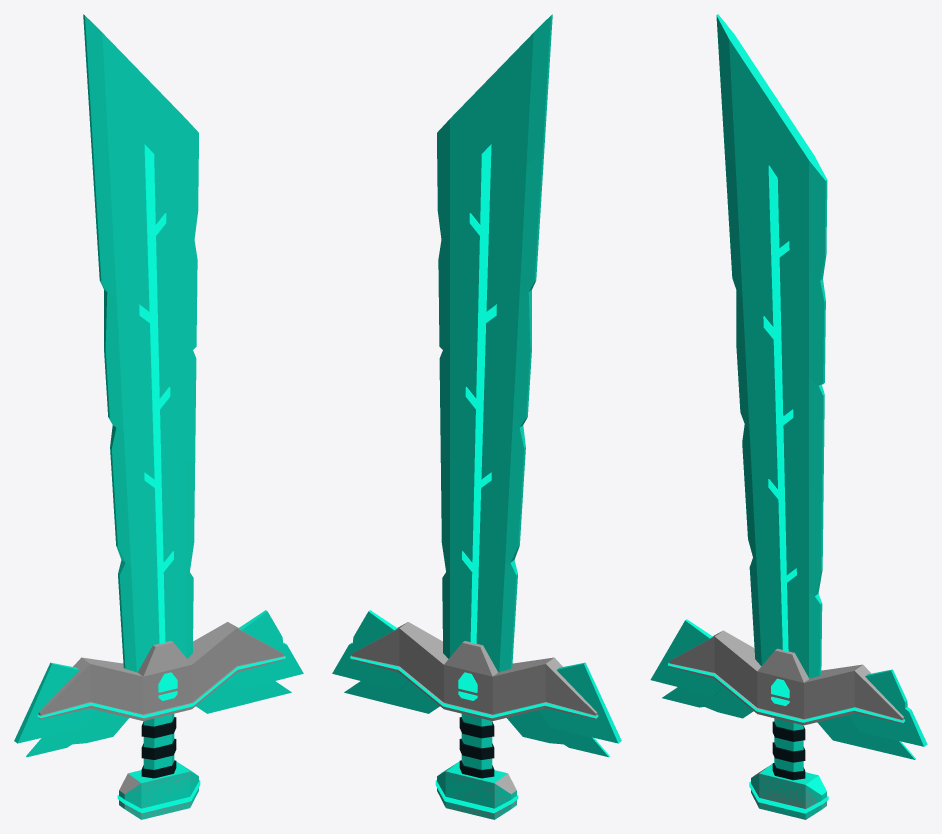
The model's file is iron-sword.glb.
3 renders of one model, left to right at view 1: azimuth 30°, elevation 25°; view 2: azimuth 150°, elevation 25°; view 3: azimuth 330°, elevation 25°, orthographic. The views are drawn at different scales.
Parts seen in each view (by area): view 1: Cube.001; view 2: Cube.001; view 3: Cube.001.
Boxes of the visible parts, bbox=[...] form: Cube.001: bbox=[14, 14, 303, 819]; Cube.001: bbox=[332, 14, 621, 819]; Cube.001: bbox=[650, 14, 927, 819].
Size of the model in its own units: 1.38 by 3.74 by 0.1597.
